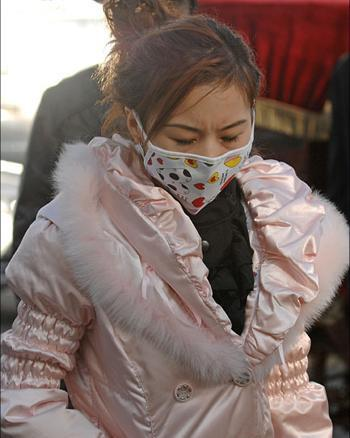OK: (154, 116, 245, 207)
